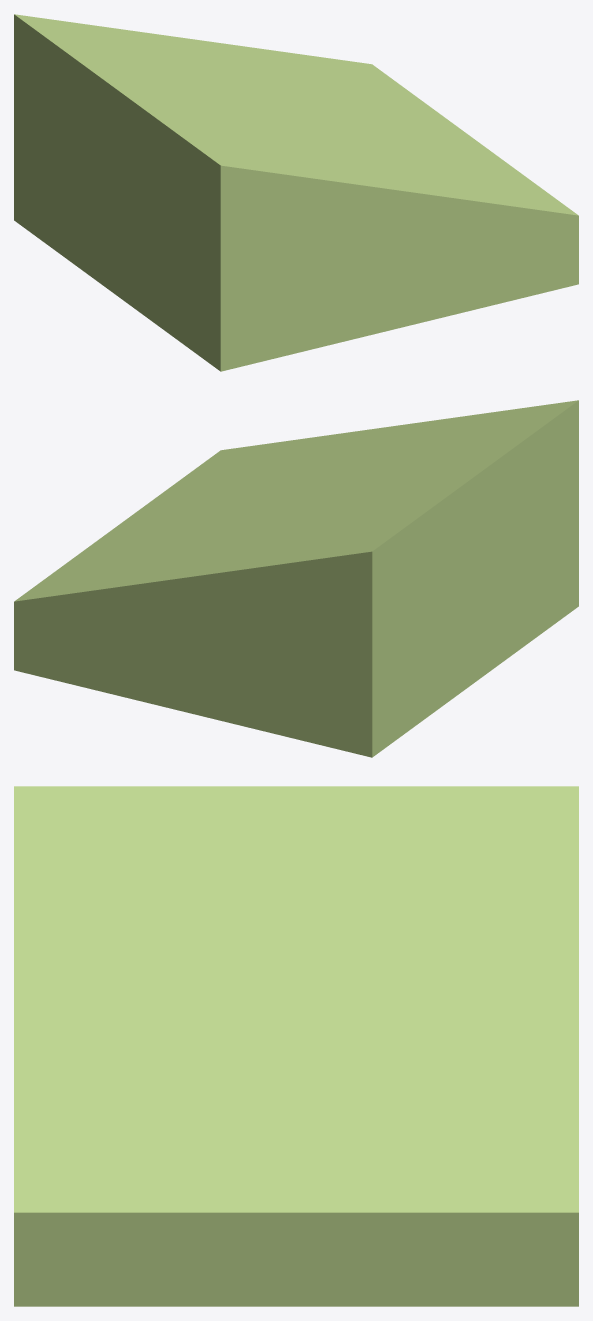
The model's file is roadTile_152.gltf.
The picture shows the model from 3 angles, top to bottom: view 1: azimuth 30°, elevation 25°; view 2: azimuth 150°, elevation 25°; view 3: azimuth 270°, elevation 25°; orthographic projection. The views are drawn at different scales.
Visible parts, largest first — view 1: roadTile_152; view 2: roadTile_152; view 3: roadTile_152.
Boxes of the visible parts, bbox=[...] form: roadTile_152: bbox=[14, 14, 578, 371]; roadTile_152: bbox=[14, 400, 578, 757]; roadTile_152: bbox=[14, 786, 578, 1306].
Size of the model in its own units: 3 by 1.65 by 3.
